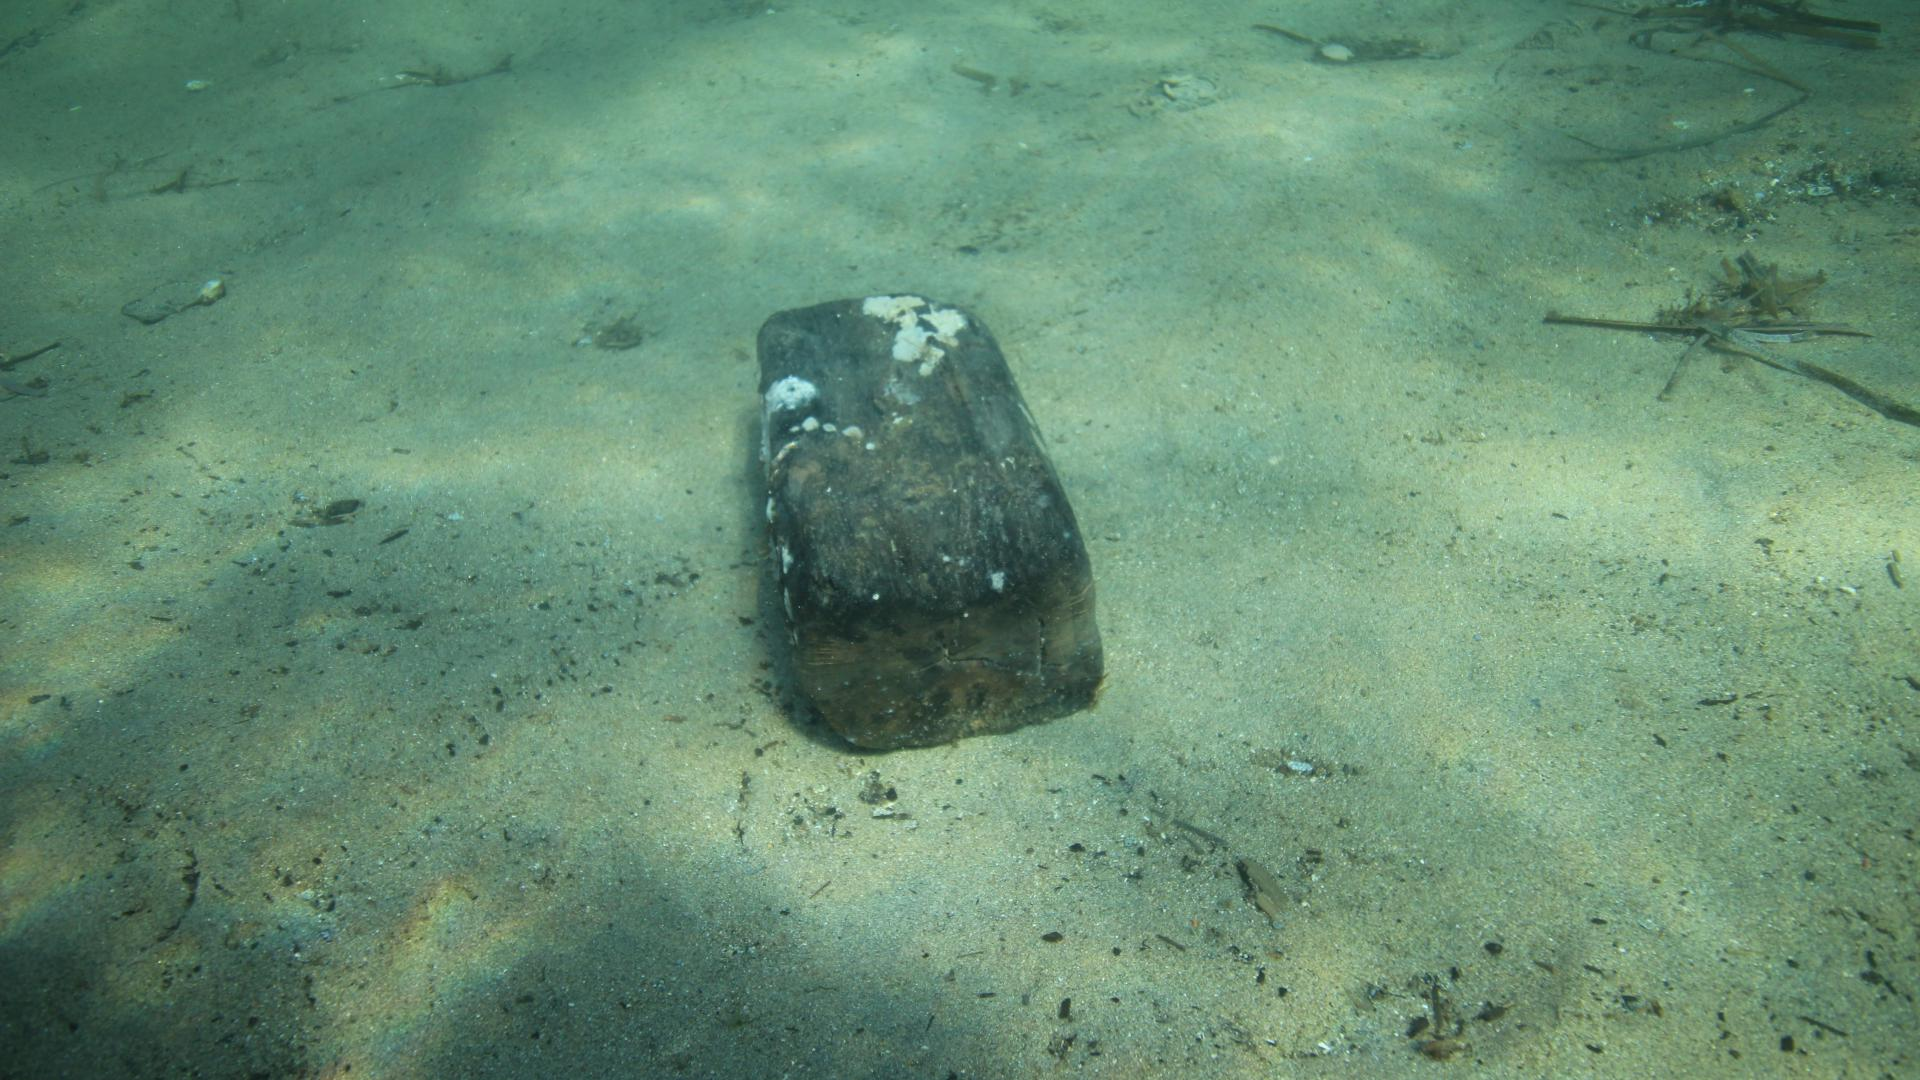wood: (756, 294, 1105, 756)
